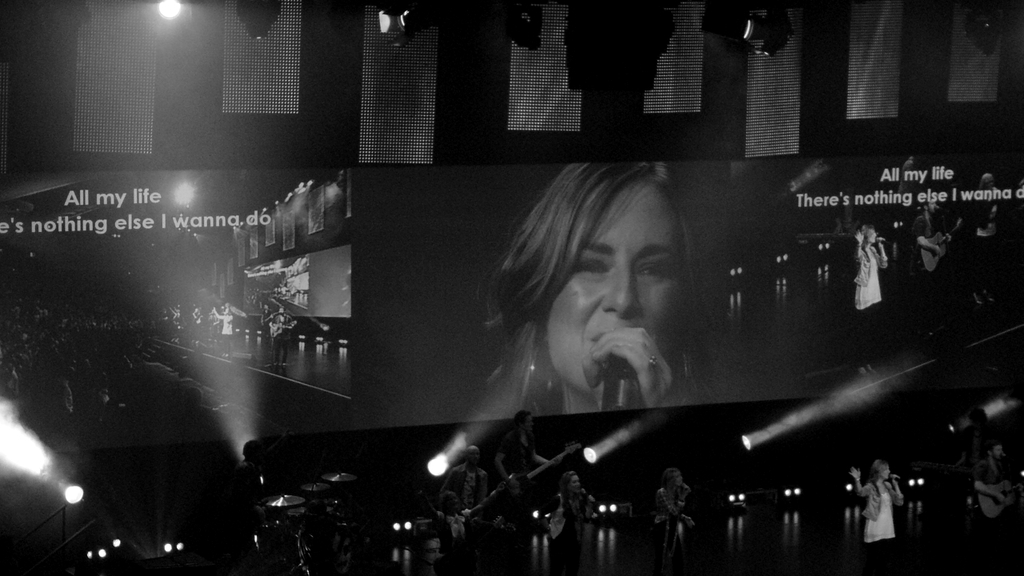Human_hand: (582, 328, 671, 409), (850, 466, 861, 482), (997, 495, 1006, 507)
